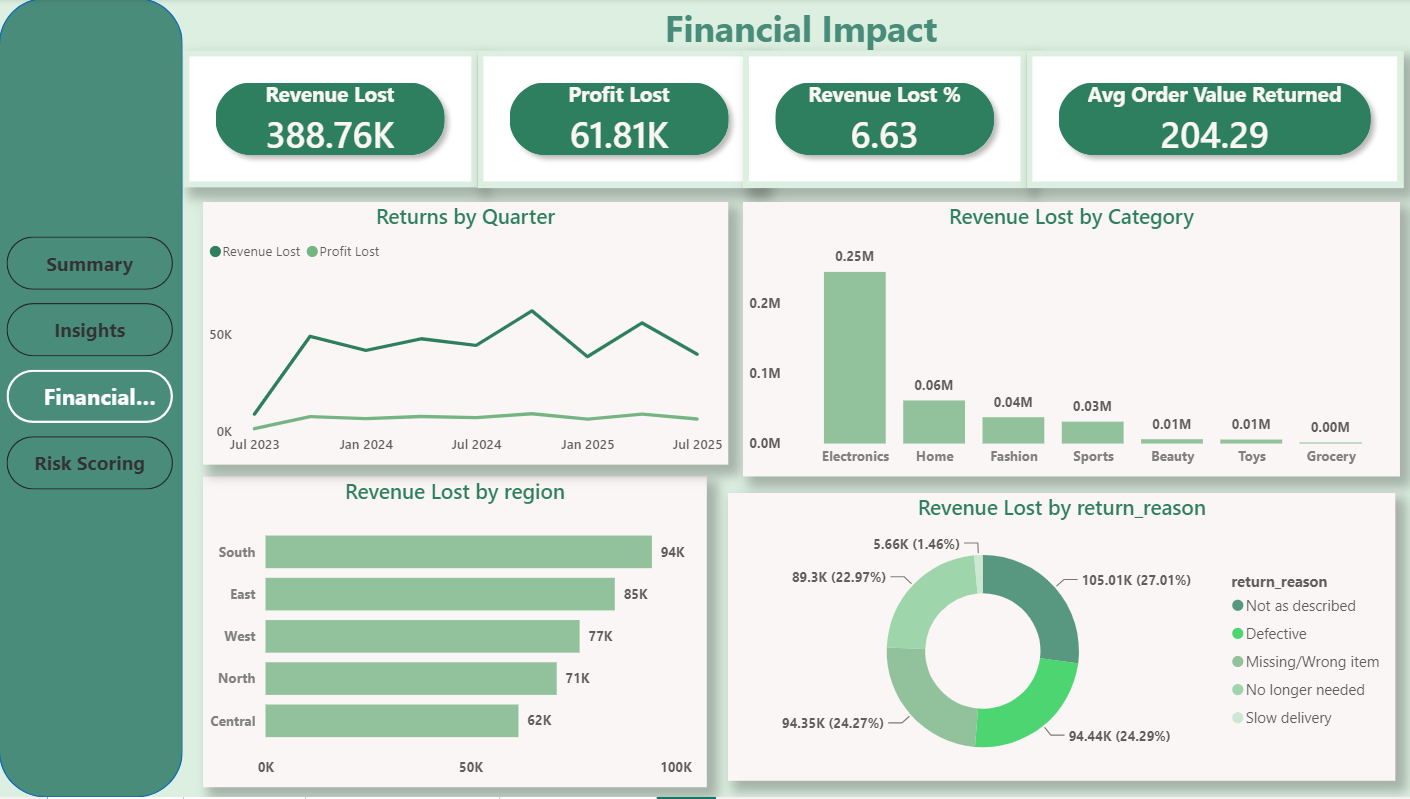

The page's visual inventory and layout, read from the dashboard file:
{"tool":"powerbi","page":{"name":"Financial Impact","canvas":[1280,720],"ordinal":2},"visuals":[{"type":"shape","box":[0,0,165.6,720.3],"z":0,"group":"g3"},{"type":"textbox","box":[166.7,0,1112.7,58.7],"z":1},{"type":"cardVisual","fields":{"Data":["return_risk_scoring.Revenue Lost"]},"box":[166.2,47.7,264.6,123.1],"z":2},{"type":"cardVisual","fields":{"Data":["return_risk_scoring.Profit Lost"]},"box":[431.7,47.6,255.6,123.8],"z":3},{"type":"cardVisual","fields":{"Data":["return_risk_scoring.Revenue Lost %"]},"box":[669.8,47.6,255.6,123.8],"z":4},{"type":"cardVisual","fields":{"Data":["return_risk_scoring.Avg Order Value Returned"]},"box":[925.4,47.6,339.7,123.8],"z":5},{"type":"clusteredBarChart","fields":{"Category":["ecommerce_returns_clean.region"],"Y":["return_risk_scoring.Revenue Lost"]},"box":[184.6,440,455.4,280],"z":6},{"type":"lineChart","title":"Returns by Quarter","fields":{"Y":["return_risk_scoring.Revenue Lost","return_risk_scoring.Profit Lost"],"Category":["return_risk_scoring.order_date.Variation.Date Hierarchy.Year","return_risk_scoring.order_date.Variation.Date Hierarchy.Quarter"]},"box":[184.1,184.1,473,236.5],"z":7},{"type":"clusteredColumnChart","title":"Revenue Lost by Category","fields":{"Category":["ecommerce_returns_clean.category"],"Y":["return_risk_scoring.Revenue Lost"]},"box":[669.8,184.1,582.5,261.9],"z":8},{"type":"donutChart","fields":{"Y":["return_risk_scoring.Revenue Lost"],"Category":["return_risk_scoring.return_reason"]},"box":[660.3,460.3,601.6,260.3],"z":9},{"type":"group","id":"g1","title":"Group 1","box":[0,0,165.6,720.3],"z":10},{"type":"pageNavigator","box":[6.3,214.3,150.8,231.7],"z":8001,"group":"g3"},{"type":"group","id":"g2","title":"Group 2","box":[0,0,165.6,720.3],"z":8003,"group":"g1"},{"type":"group","id":"g3","title":"Group 3","box":[0,0,165.6,720.3],"z":8003,"group":"g2"}]}

Visuals, with their boxes in screenshot pixels (x1, y1, x2, y2), scaled from the page's 1280x720 canvas onto the 1410x799 screenshot:
shape: bbox=(0, 0, 182, 798)
textbox: bbox=(184, 0, 1409, 65)
cardVisual - return_risk_scoring.Revenue Lost: bbox=(183, 53, 475, 190)
cardVisual - return_risk_scoring.Profit Lost: bbox=(476, 53, 757, 190)
cardVisual - return_risk_scoring.Revenue Lost %: bbox=(738, 53, 1019, 190)
cardVisual - return_risk_scoring.Avg Order Value Returned: bbox=(1019, 53, 1394, 190)
clusteredBarChart - ecommerce_returns_clean.region x return_risk_scoring.Revenue Lost: bbox=(203, 488, 705, 798)
"Returns by Quarter" lineChart: bbox=(203, 204, 724, 467)
"Revenue Lost by Category" clusteredColumnChart: bbox=(738, 204, 1379, 495)
donutChart - return_risk_scoring.Revenue Lost x return_risk_scoring.return_reason: bbox=(727, 511, 1390, 798)
"Group 1" group: bbox=(0, 0, 182, 798)
pageNavigator: bbox=(7, 238, 173, 495)
"Group 2" group: bbox=(0, 0, 182, 798)
"Group 3" group: bbox=(0, 0, 182, 798)
